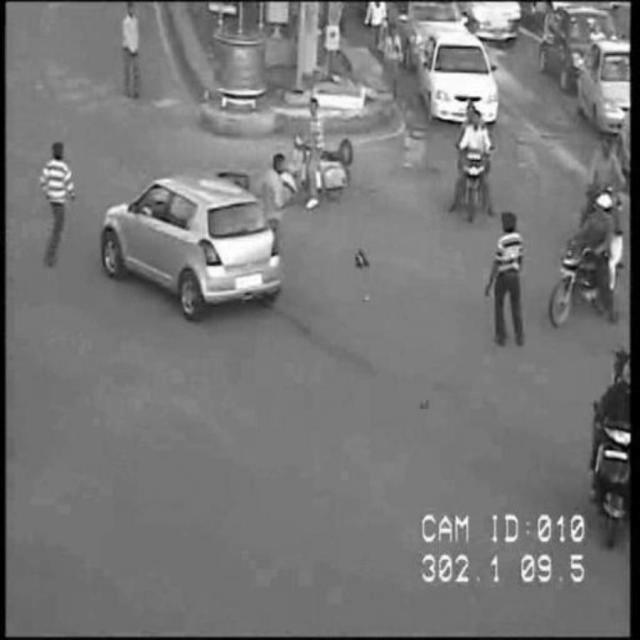person: (482, 212, 529, 350), (39, 135, 79, 263), (263, 154, 291, 252), (123, 5, 143, 103)
vehicle: (101, 174, 286, 315), (547, 195, 621, 321), (592, 348, 632, 548), (422, 30, 498, 126), (283, 95, 353, 199), (452, 100, 492, 216), (582, 44, 630, 128)
